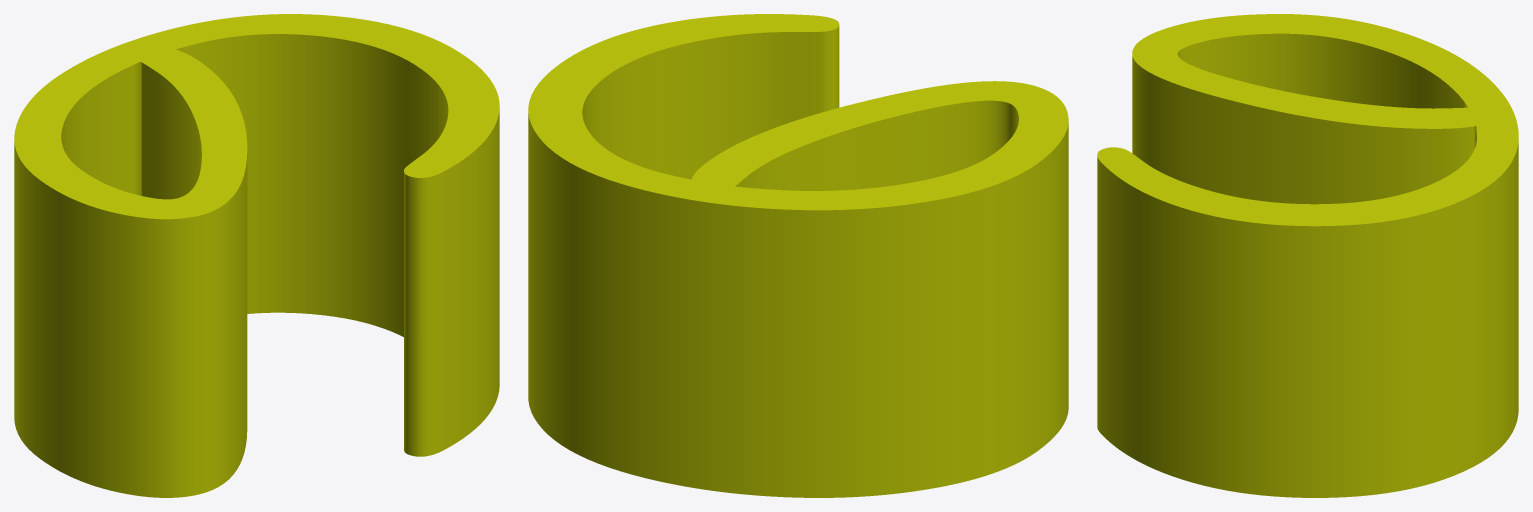
3 views of the same model, side by side, from view 1: azimuth 30°, elevation 25°; view 2: azimuth 150°, elevation 25°; view 3: azimuth 270°, elevation 25° (orthographic). The views are drawn at different scales.
Visible parts, largest first — view 1: テキスト; view 2: テキスト; view 3: テキスト.
Part boxes in pixels (x1,y1,x2,y2): テキスト: (14, 14, 499, 497); テキスト: (528, 14, 1068, 497); テキスト: (1097, 14, 1518, 497).
Size of the model in its own units: 0.6699 by 0.4 by 0.5623.
